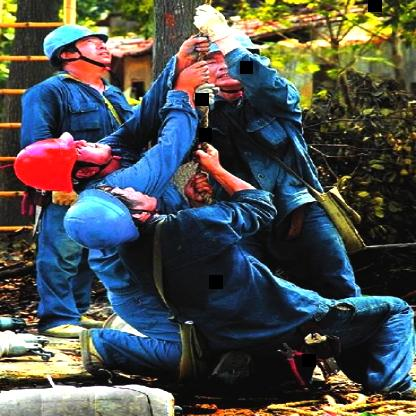helmet: (60, 186, 172, 249), (178, 22, 276, 90), (3, 136, 126, 190), (36, 22, 120, 74)
